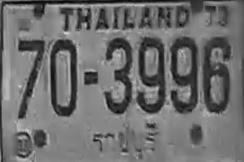0: (49, 39, 77, 116)
3: (103, 37, 132, 114)
6: (202, 36, 231, 113)
7: (17, 38, 45, 118)
9: (136, 36, 166, 114), (170, 36, 198, 113)
RBR: (87, 121, 165, 160)
